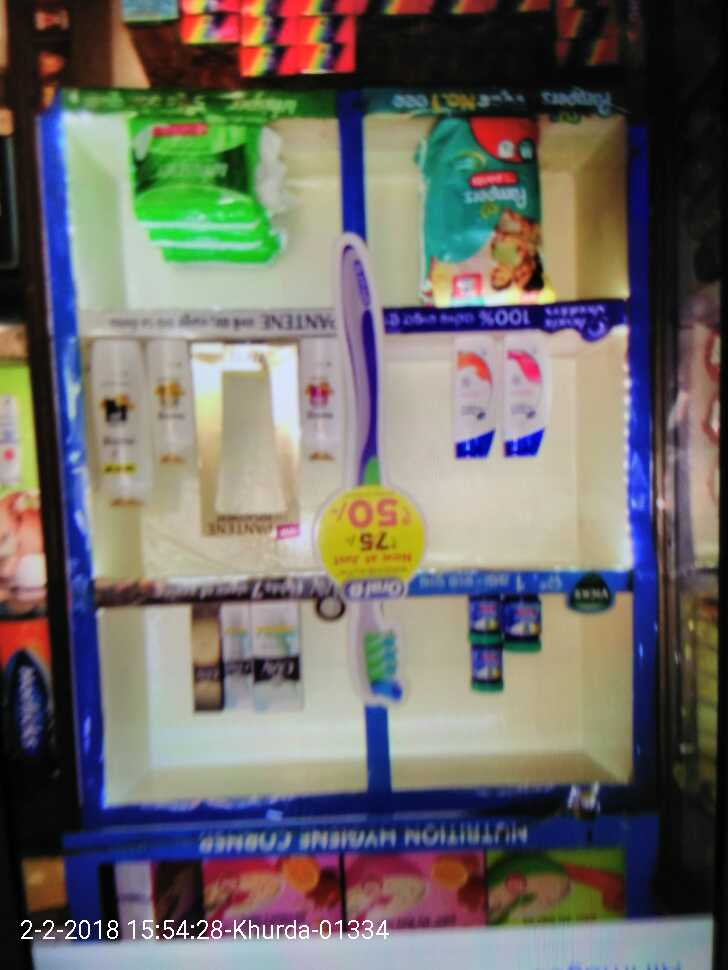vicks: (455, 576, 546, 697)
